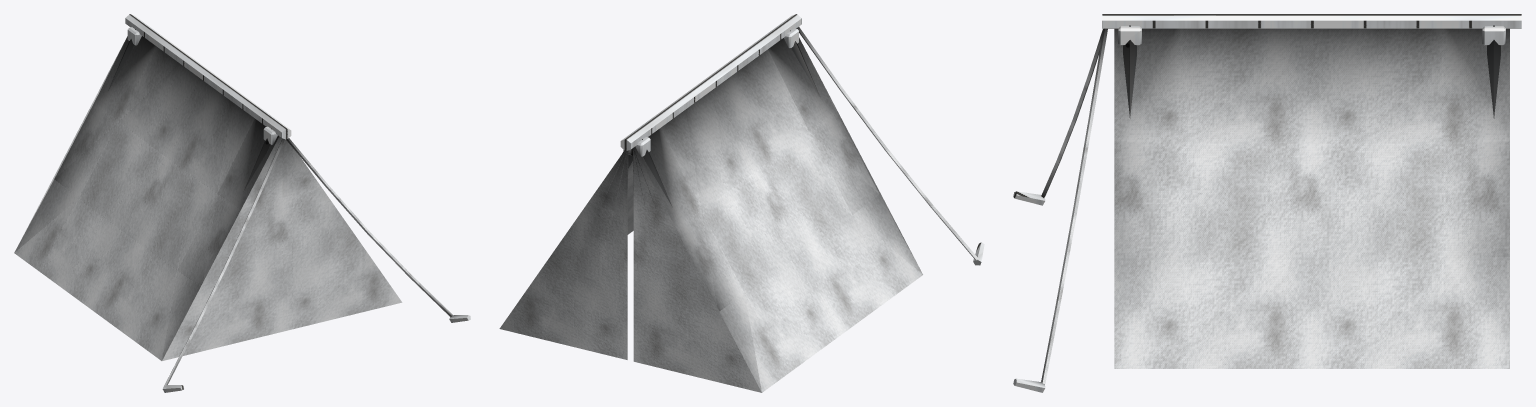
3 renders of one model, left to right at view 1: azimuth 30°, elevation 25°; view 2: azimuth 150°, elevation 25°; view 3: azimuth 270°, elevation 25°, orthographic. The views are drawn at different scales.
Parts seen in each view (by area): view 1: tent_M_canvas, tent_M_wood, tent_M_rope, tent_M_wood_dark; view 2: tent_M_canvas, tent_M_wood, tent_M_rope, tent_M_wood_dark; view 3: tent_M_canvas, tent_M_wood, tent_M_rope, tent_M_wood_dark.
Part boxes in pixels (box(x1,y1,x2,y2)): tent_M_canvas: box(14, 36, 402, 360); tent_M_wood: box(108, 14, 291, 191); tent_M_rope: box(164, 138, 452, 385); tent_M_wood_dark: box(127, 27, 470, 392); tent_M_canvas: box(499, 37, 922, 392); tent_M_wood: box(620, 14, 820, 207); tent_M_rope: box(796, 27, 978, 260); tent_M_wood_dark: box(623, 28, 984, 265); tent_M_canvas: box(1114, 28, 1509, 368); tent_M_wood: box(1102, 14, 1521, 118); tent_M_rope: box(1041, 28, 1107, 383); tent_M_wood_dark: box(1013, 26, 1505, 392).
Size of the model in its own units: 2.33 by 1.58 by 2.57.
Materials: 4 (4 with a texture image).
